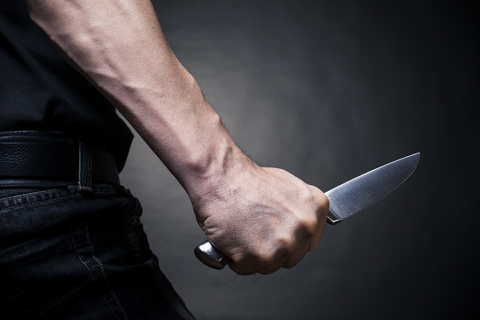knife: (268, 145, 425, 264)
